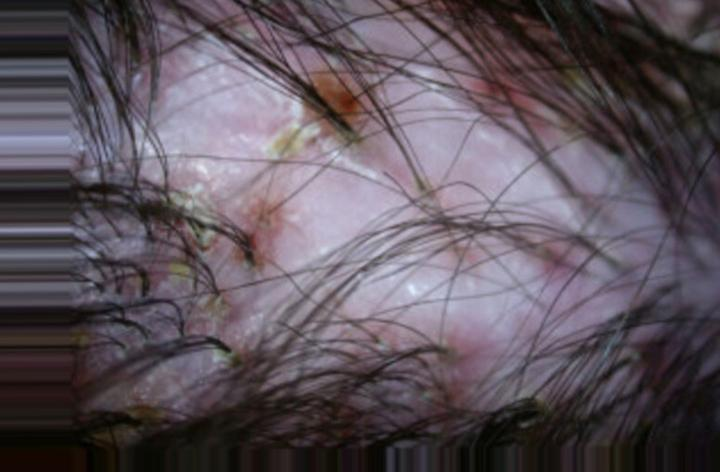Folliculitis: (196, 20, 566, 365)
